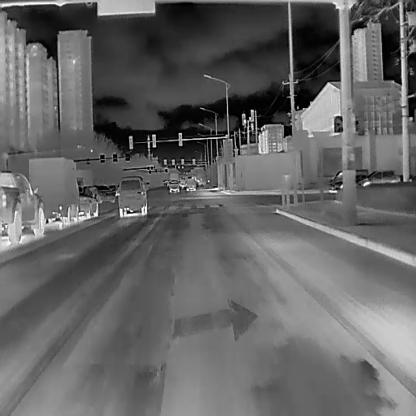car: (0, 171, 45, 243), (116, 175, 147, 217), (328, 168, 368, 190), (358, 168, 400, 185), (79, 184, 98, 221), (88, 184, 114, 202), (167, 180, 179, 192), (185, 179, 195, 190)
truck: (26, 157, 79, 229)
